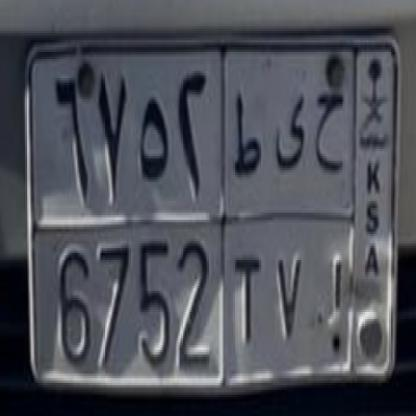english: (19, 210, 362, 382)
